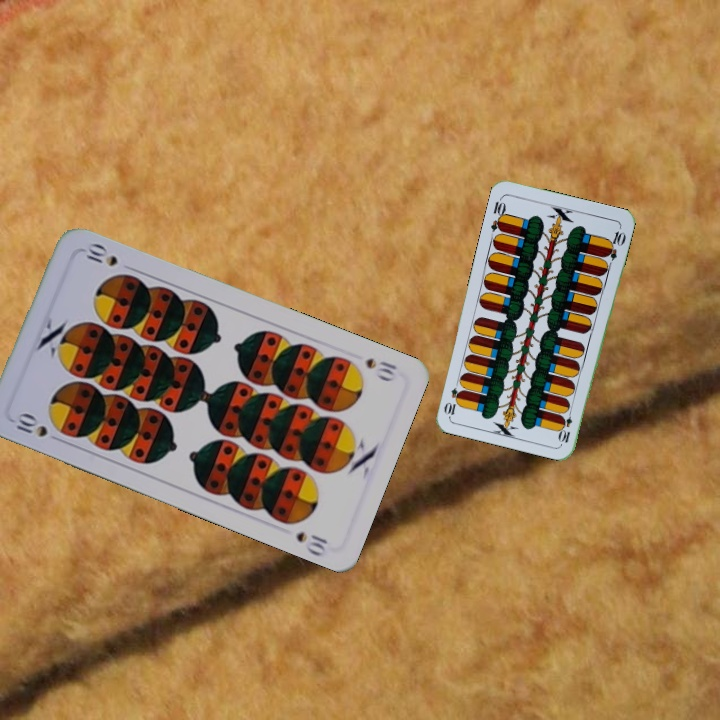E10: (487, 194, 508, 234), (556, 405, 575, 445)
S10: (10, 408, 65, 445), (361, 354, 400, 384)
